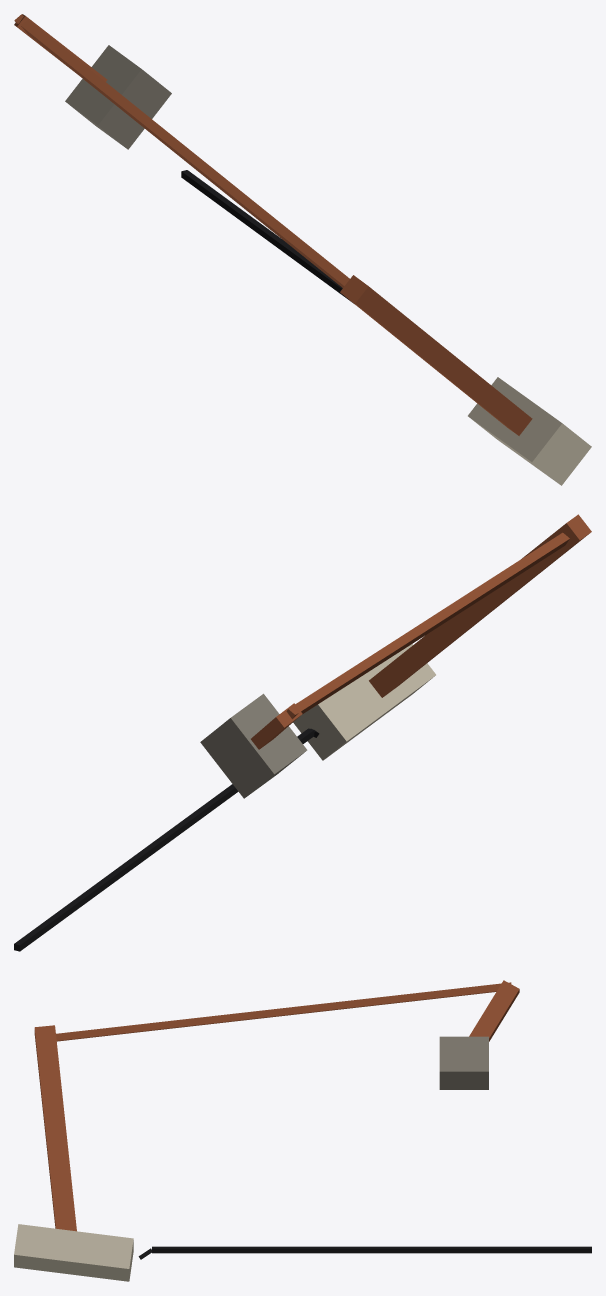
3 views of the same model, one above another, from view 1: azimuth 30°, elevation 25°; view 2: azimuth 150°, elevation 25°; view 3: azimuth 270°, elevation 25° (orthographic). The views are drawn at different scales.
Visible parts, largest first — view 1: t00_g29_p7; view 2: t00_g29_p7; view 3: t00_g29_p7.
Part boxes in pixels (x1,y1,x2,y2): t00_g29_p7: (14,14,591,485); t00_g29_p7: (14,514,591,951); t00_g29_p7: (14,980,591,1281).
Size of the model in its own units: 10.92 by 11.82 by 28.06.
